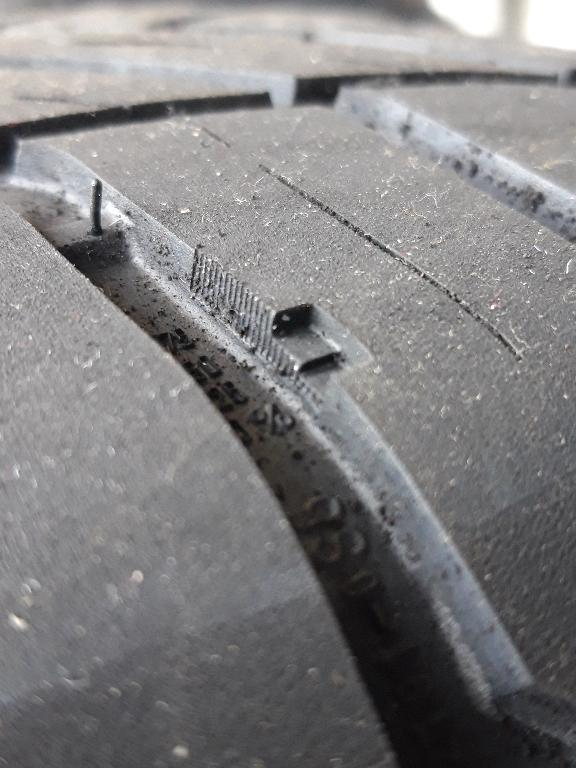temoin:50: (245, 281, 383, 425)
